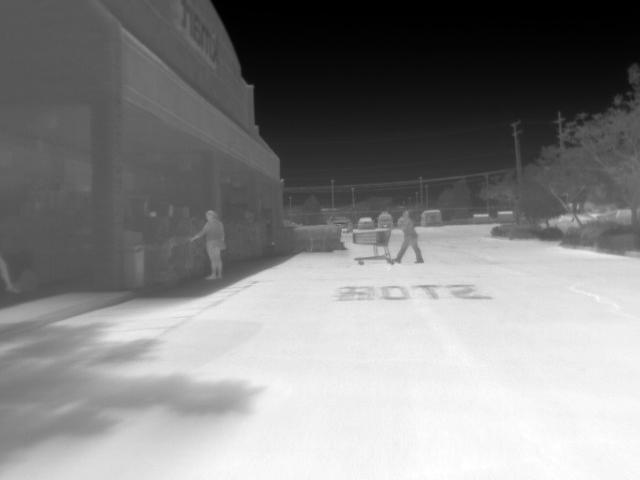car: (327, 214, 353, 234), (419, 208, 445, 227), (377, 211, 395, 230), (356, 214, 376, 228)
person: (189, 207, 229, 281), (392, 210, 424, 265), (1, 255, 21, 294)
